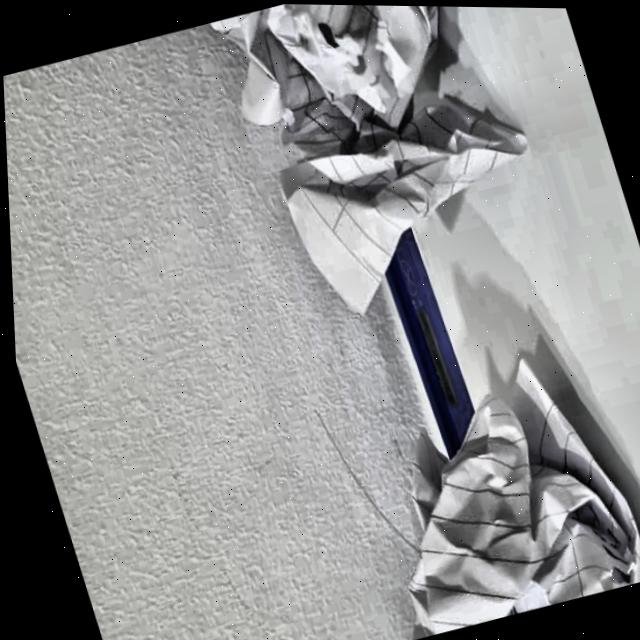paper: (202, 2, 556, 318), (329, 366, 640, 640)
